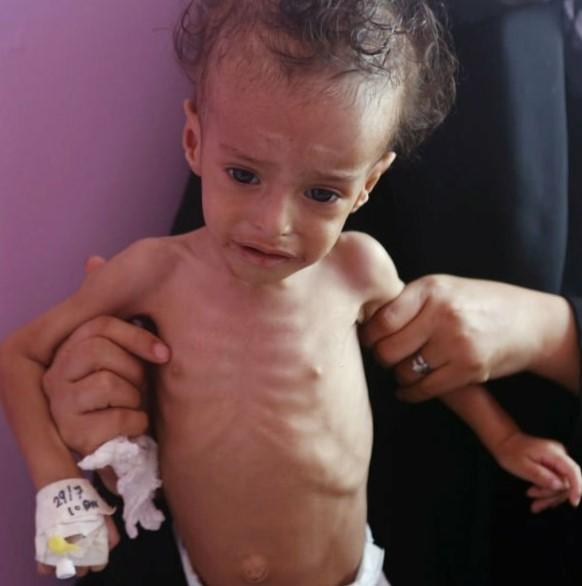Stunting: (151, 20, 446, 291)
